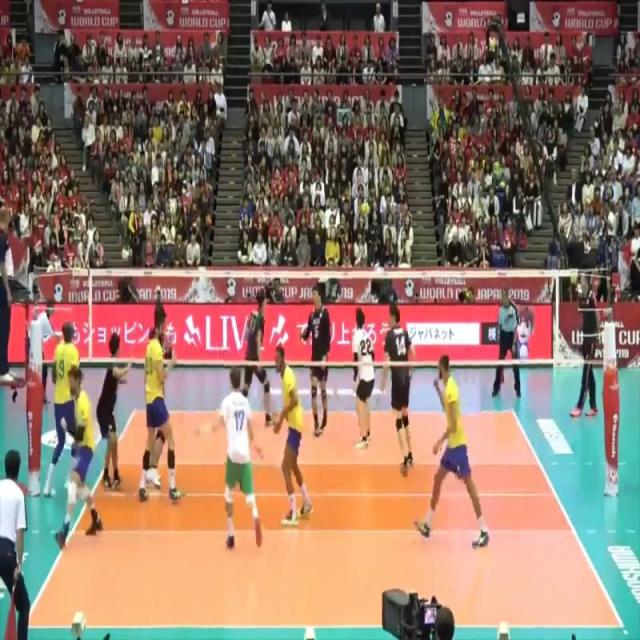volleyball: (360, 200, 370, 218)
